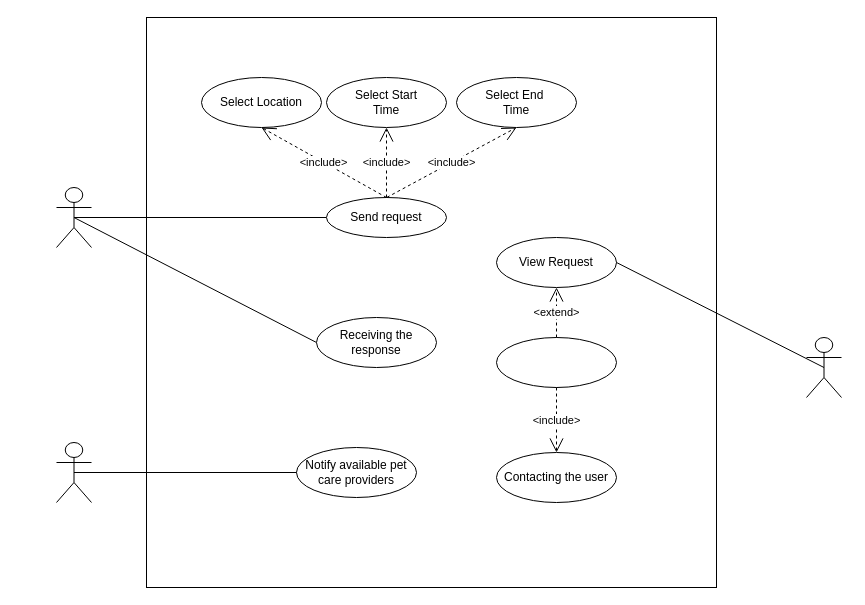
This 865x605 diagram has some shape labels left out. Each missing label, with the centre of its shape:
Confirm request: (556,362)
Normal User: (74,217)
Pet Care: (824,367)
System Administrator: (74,472)
